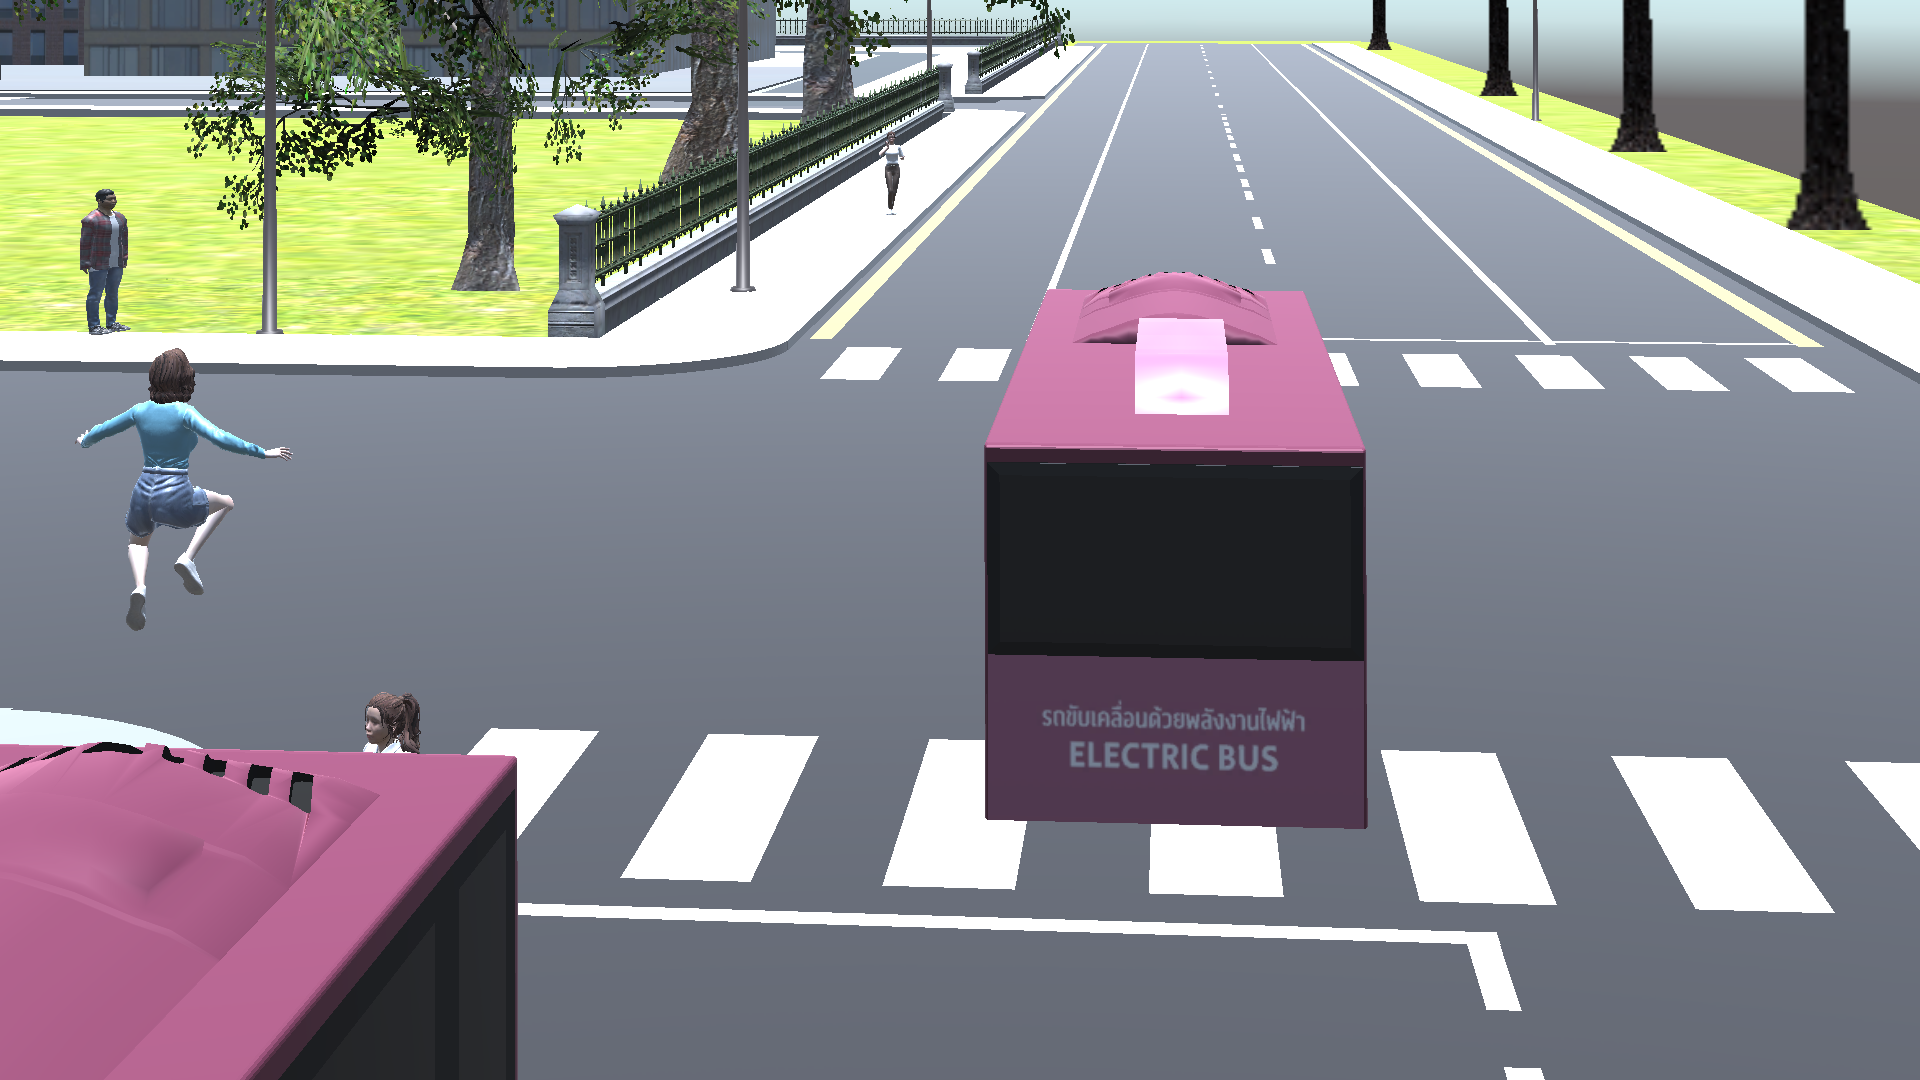pedestrian: (74, 348, 295, 656), (79, 186, 134, 337), (357, 687, 420, 755), (877, 131, 910, 218)
